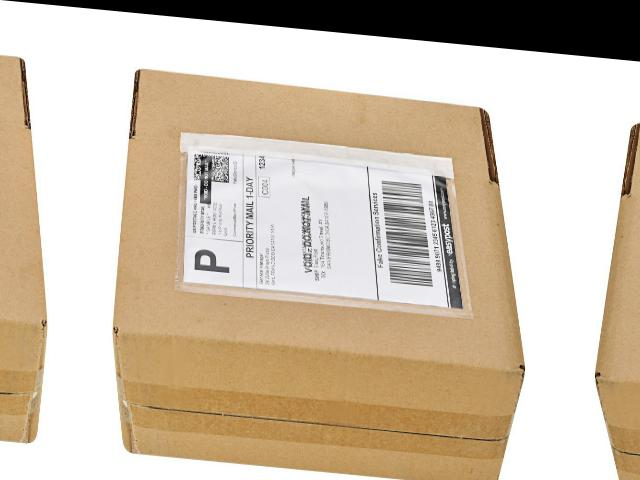label: (178, 131, 470, 311)
package: (109, 67, 524, 480), (0, 55, 49, 442), (597, 122, 640, 480)
